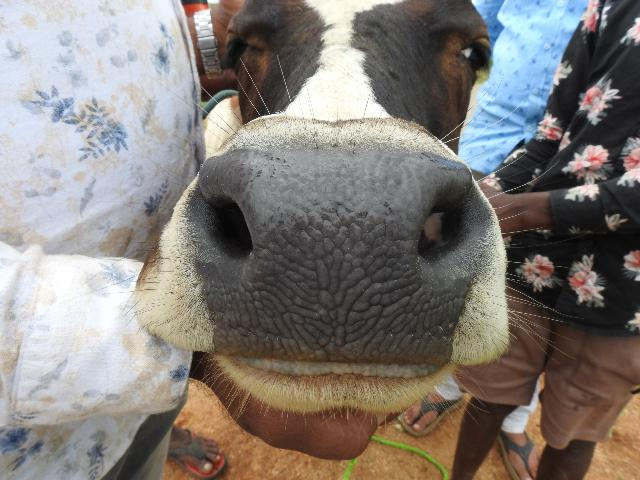Muzzle: (235, 152, 428, 360)
